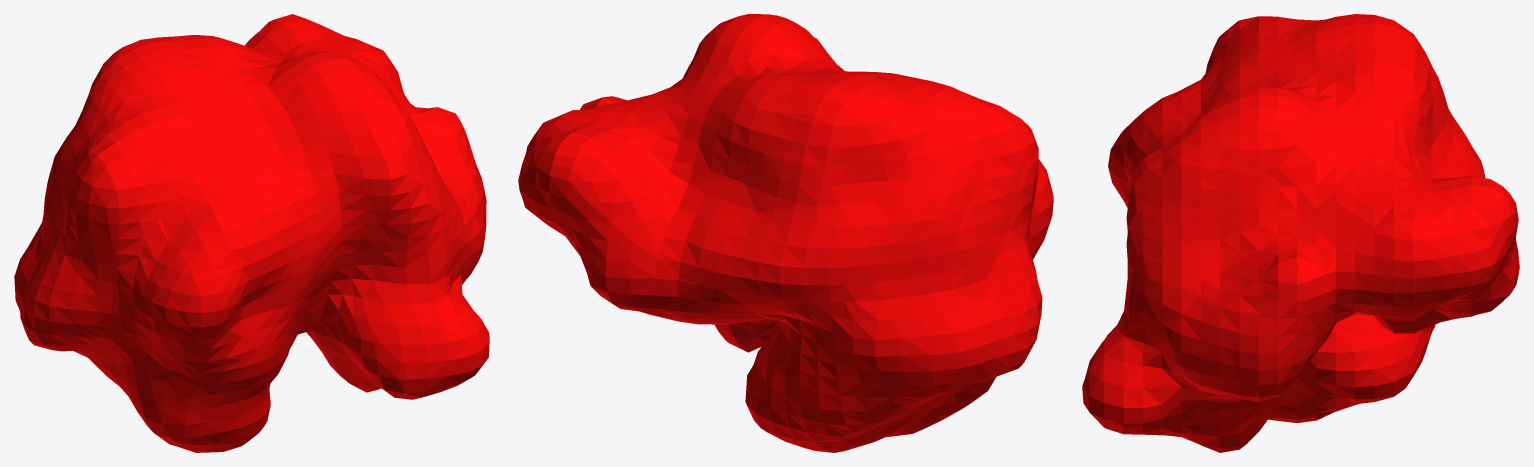
The model's file is cmoM_coarse.dae.
The picture shows the model from 3 angles, left to right: view 1: azimuth 30°, elevation 25°; view 2: azimuth 150°, elevation 25°; view 3: azimuth 270°, elevation 25°; orthographic projection. The views are drawn at different scales.
Parts seen in each view (by area): view 1: cmoM; view 2: cmoM; view 3: cmoM.
Boxes of the visible parts, x1,y1,x2,y2 form: cmoM: (14,14,489,452); cmoM: (518,14,1053,452); cmoM: (1082,14,1519,452).
Size of the model in its own units: 58.14 by 46.61 by 48.24.
